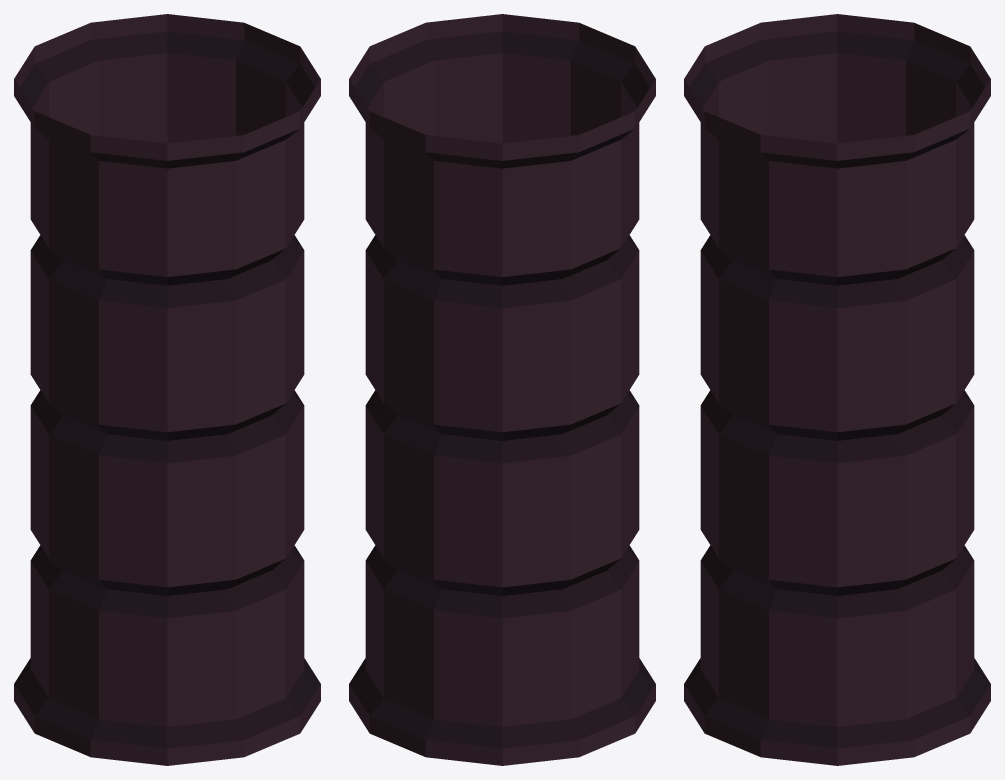
Rendered from column01.fbx.
3 views of the same model, side by side, from view 1: azimuth 30°, elevation 25°; view 2: azimuth 150°, elevation 25°; view 3: azimuth 270°, elevation 25° (orthographic).
Parts seen in each view (by area): view 1: column01; view 2: column01; view 3: column01.
Boxes of the visible parts, x1=… form: column01: x1=14, y1=14, x2=320, y2=765; column01: x1=349, y1=14, x2=655, y2=765; column01: x1=684, y1=14, x2=990, y2=765.
Bounding box in the file's own units: 89.6 × 201 × 89.6.
